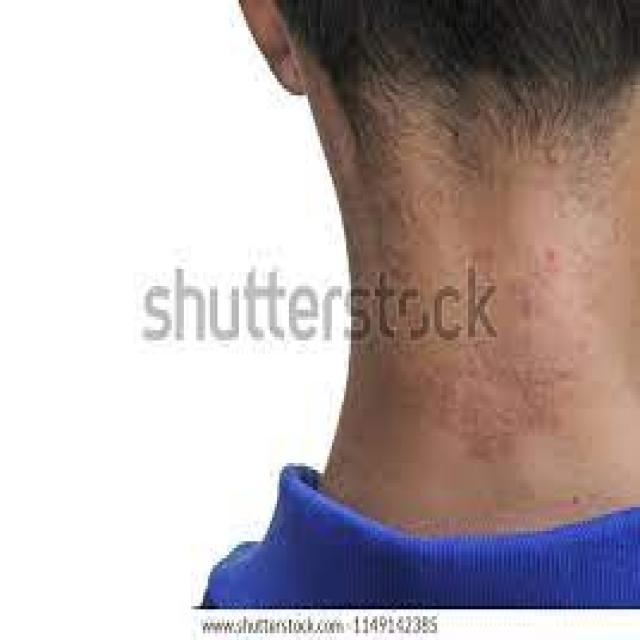Acanthosis Nigricans: (352, 163, 633, 481)
